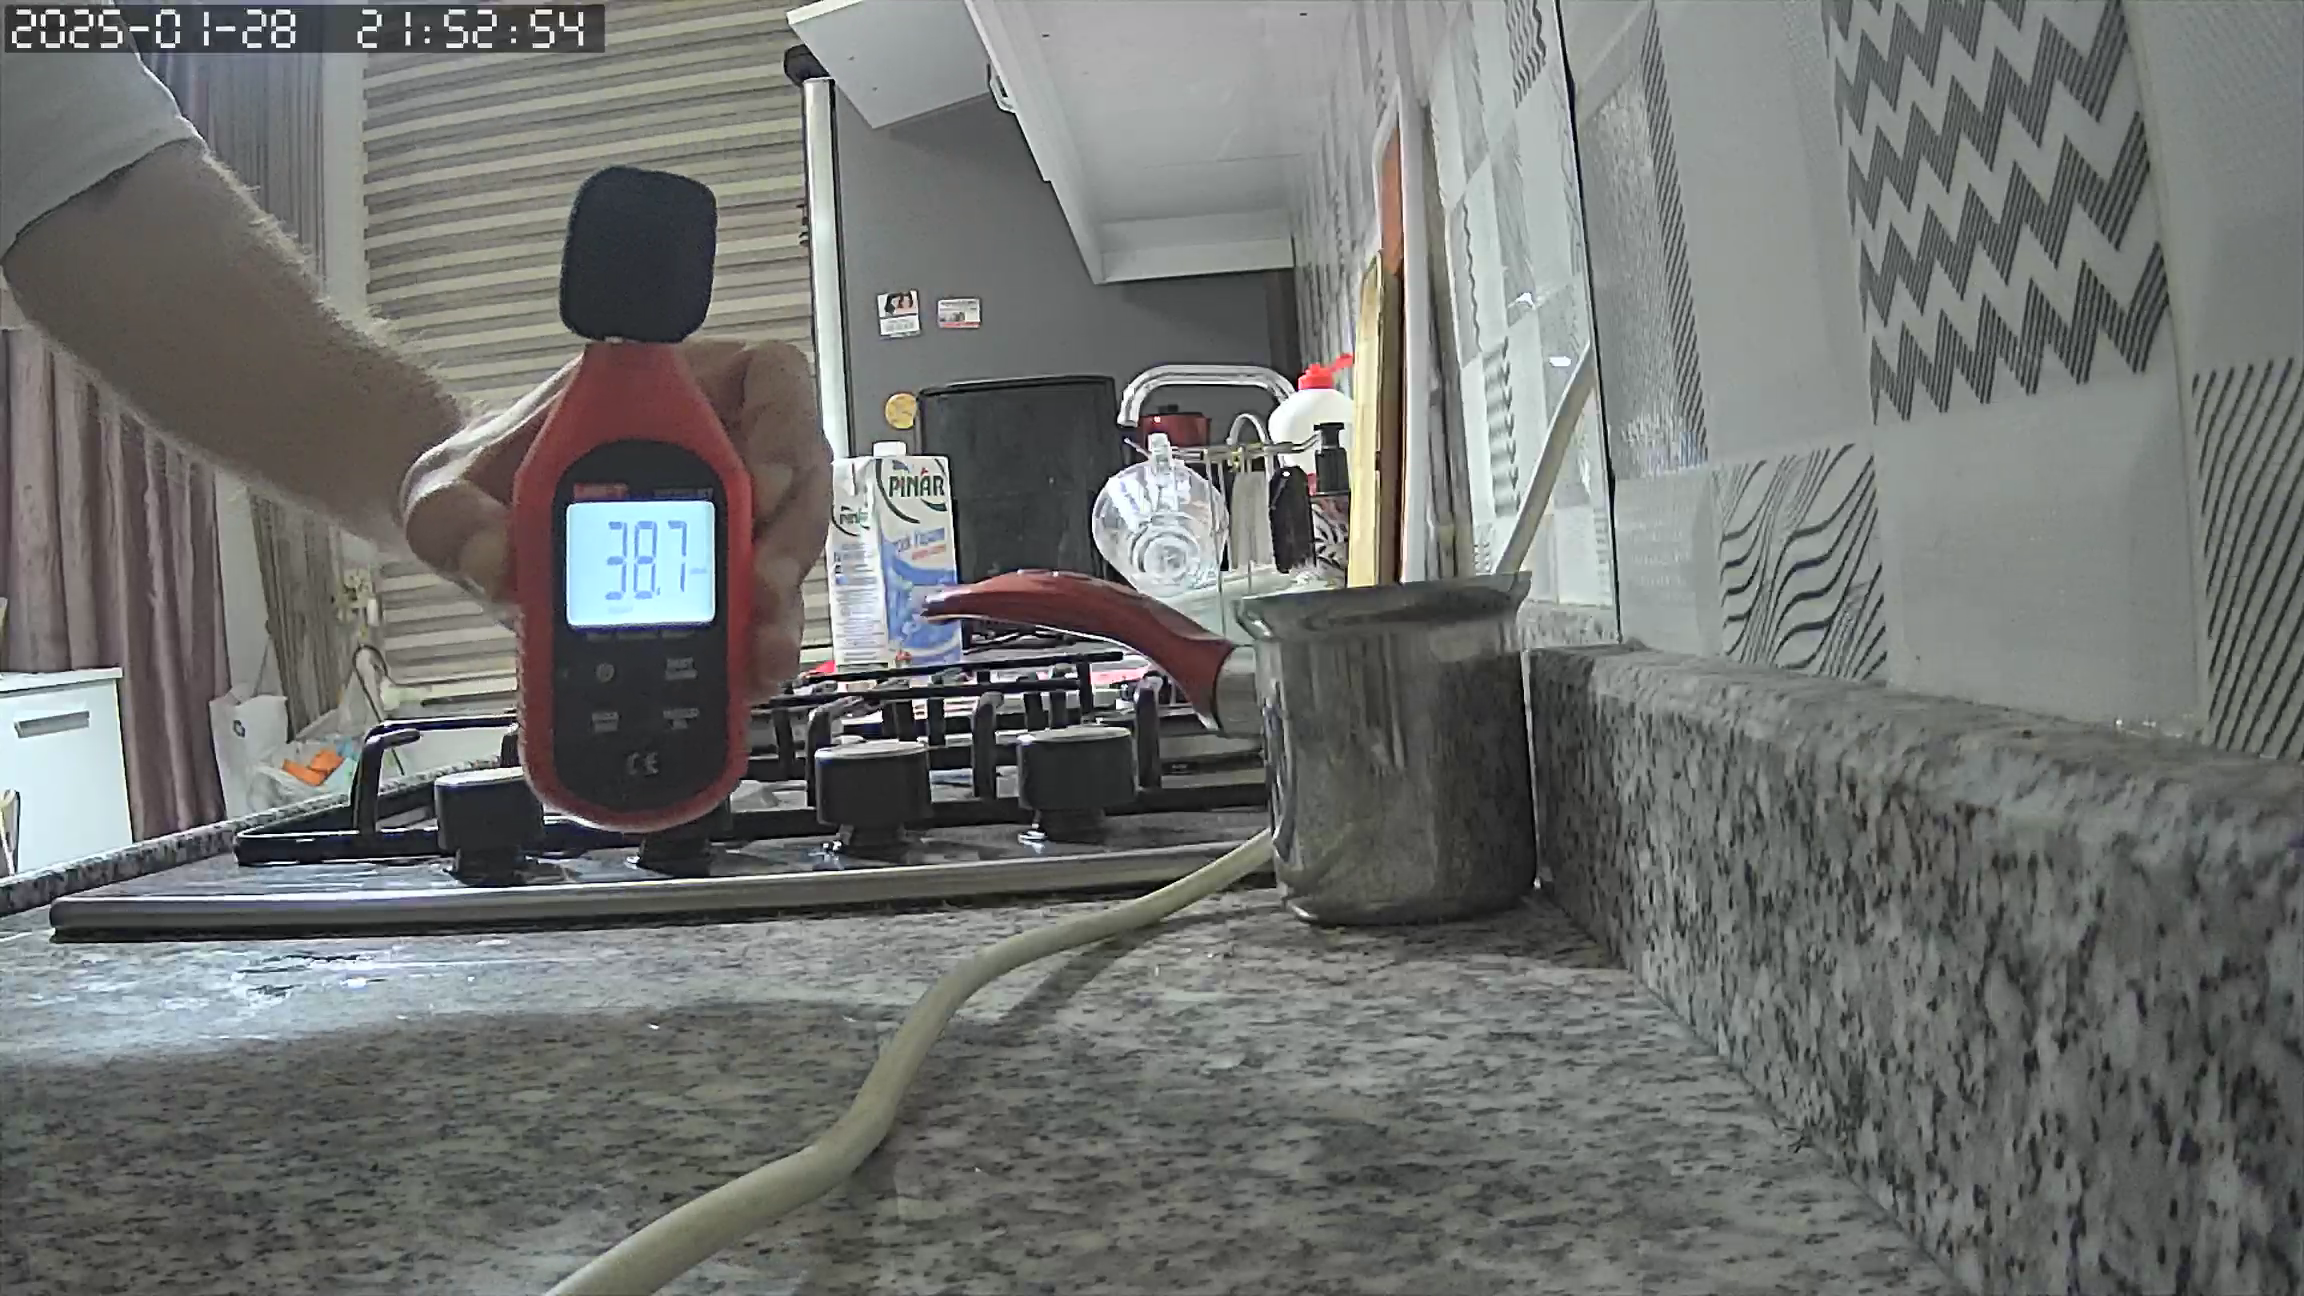screen: (563, 500, 718, 627)
